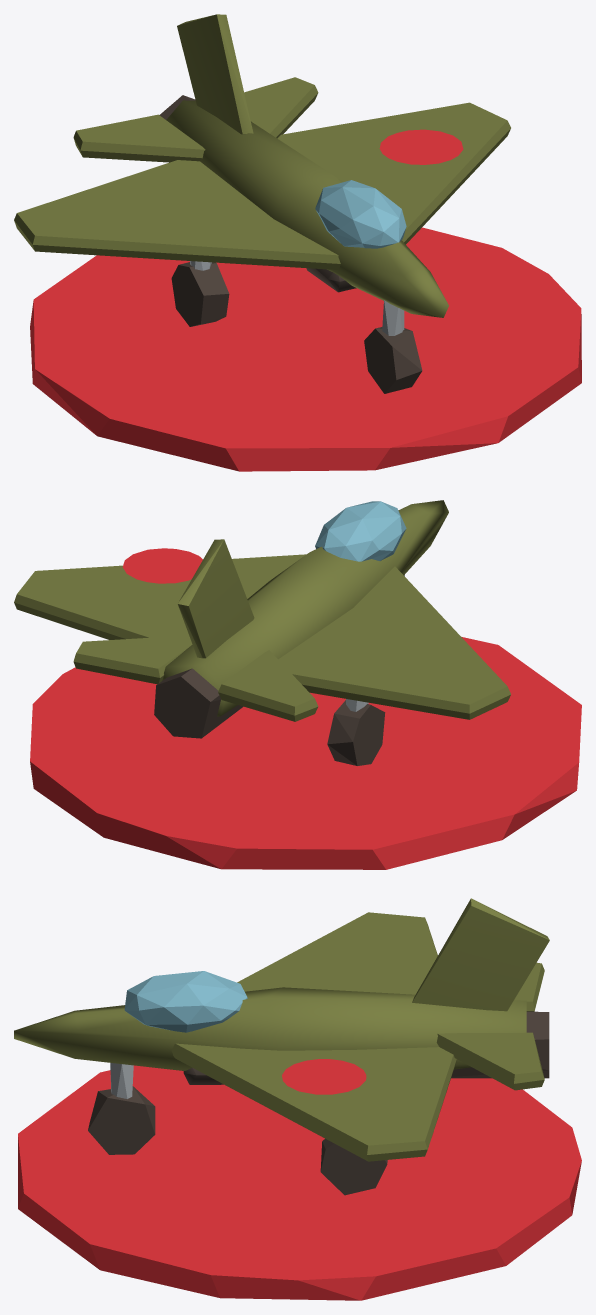
File: japan_air_force_lod1.glb
The picture shows the model from 3 angles, top to bottom: view 1: azimuth 30°, elevation 25°; view 2: azimuth 150°, elevation 25°; view 3: azimuth 270°, elevation 25°; orthographic projection.
Visible parts, largest first — view 1: base_pedestal, body_hull; view 2: base_pedestal, body_hull; view 3: base_pedestal, body_hull.
Part boxes in pixels (x1,y1,x2,y2): base_pedestal: [30, 227, 581, 471]; body_hull: [14, 14, 510, 393]; base_pedestal: [30, 637, 581, 869]; body_hull: [14, 500, 510, 765]; base_pedestal: [18, 1065, 581, 1300]; body_hull: [14, 898, 549, 1195].
Size of the model in its own units: 0.7751 by 0.4279 by 0.7804.
